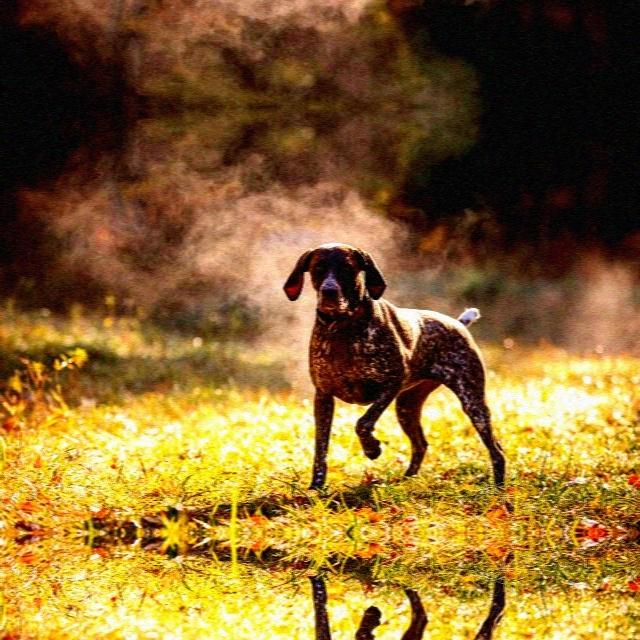dog: (274, 234, 514, 511), (274, 555, 514, 640)
